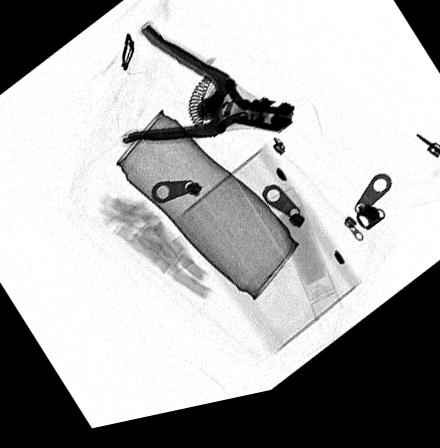Pliers: (119, 30, 294, 151)
